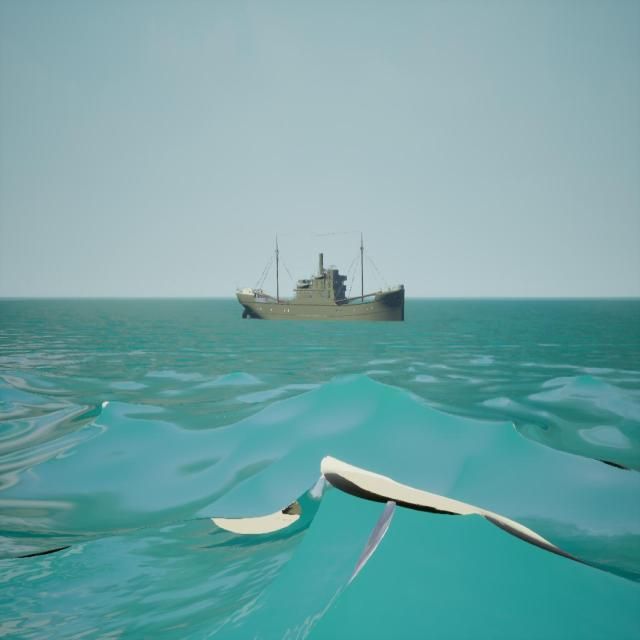fishing ship: (237, 233, 406, 323)
